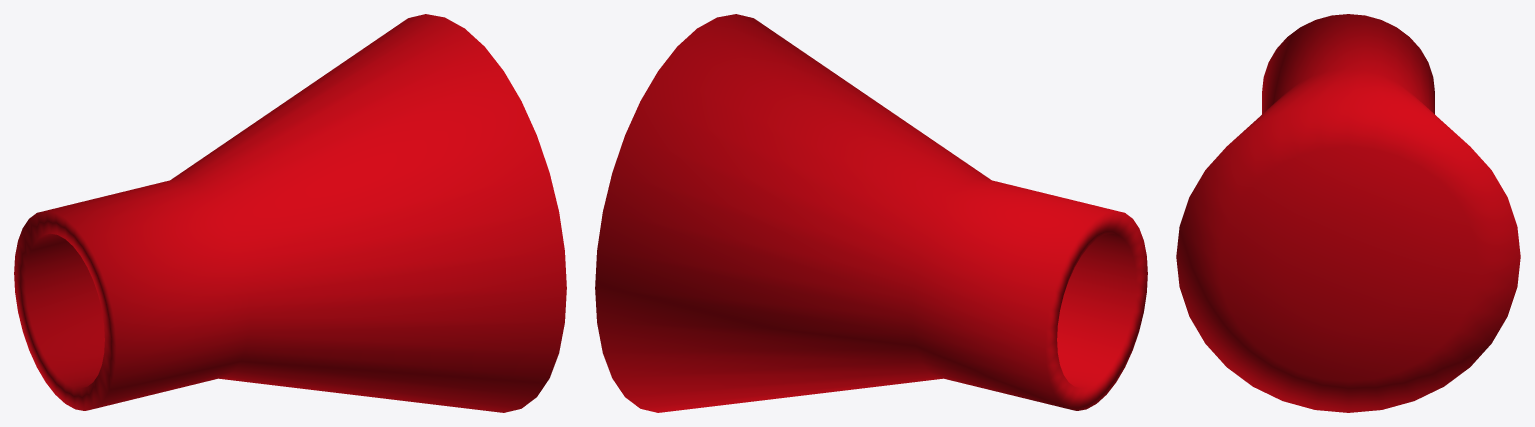
The model's file is Switch_Emergency2.fbx.
3 renders of one model, left to right at view 1: azimuth 30°, elevation 25°; view 2: azimuth 150°, elevation 25°; view 3: azimuth 270°, elevation 25°, orthographic. The views are drawn at different scales.
Visible parts, largest first — view 1: Switch_Emergenc_LP; view 2: Switch_Emergenc_LP; view 3: Switch_Emergenc_LP.
Boxes of the visible parts, bbox=[...] form: Switch_Emergenc_LP: bbox=[14, 14, 566, 412]; Switch_Emergenc_LP: bbox=[595, 14, 1147, 412]; Switch_Emergenc_LP: bbox=[1176, 14, 1520, 412].
Size of the model in its own units: 6.13 by 4.98 by 4.98.
